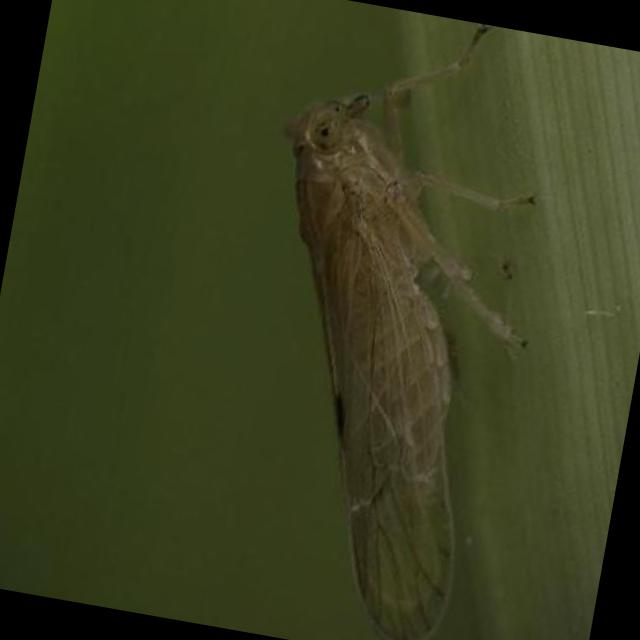brown-planthopper: (198, 0, 572, 640)
